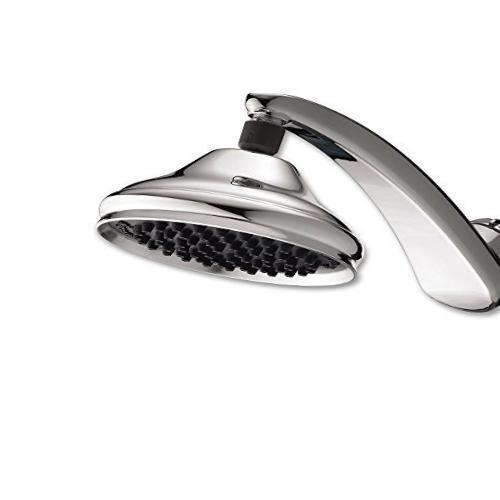Ducha: (84, 96, 499, 325)
